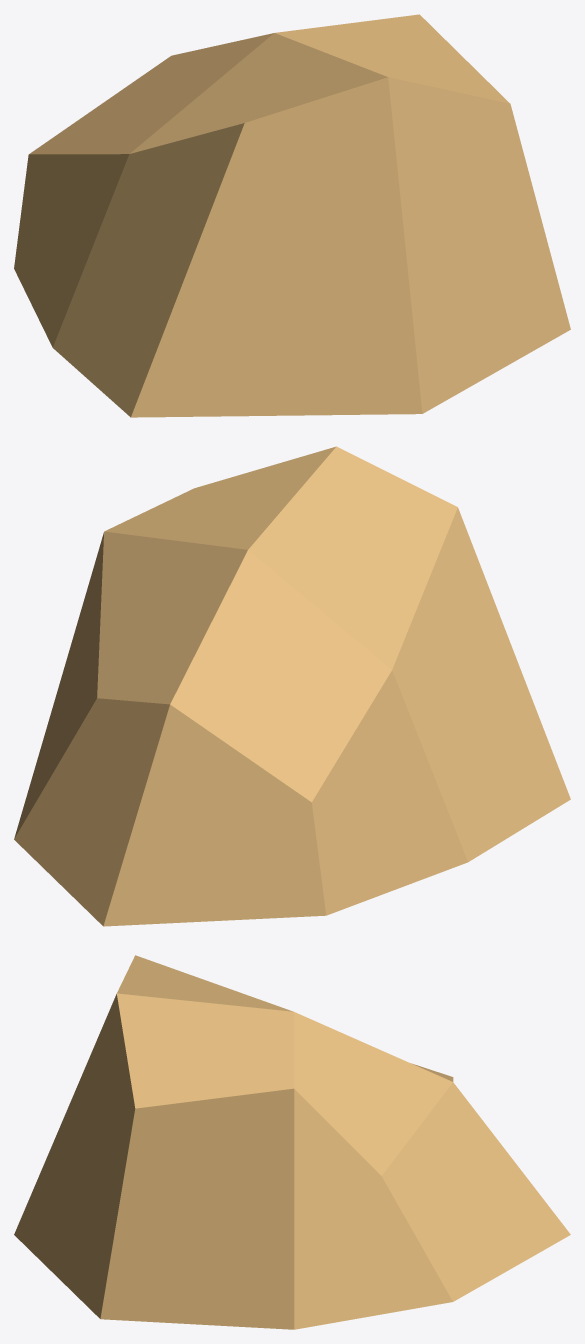
Rendered from Rock_V1.fbx.
3 views of the same model, one above another, from view 1: azimuth 30°, elevation 25°; view 2: azimuth 150°, elevation 25°; view 3: azimuth 270°, elevation 25° (orthographic). The views are drawn at different scales.
Parts seen in each view (by area): view 1: rock; view 2: rock; view 3: rock.
Part boxes in pixels (x1,y1,x2,y2): rock: (14,14,570,417); rock: (14,446,570,926); rock: (14,955,570,1329).
Bounding box in the file's own units: 297 × 184 × 368.
